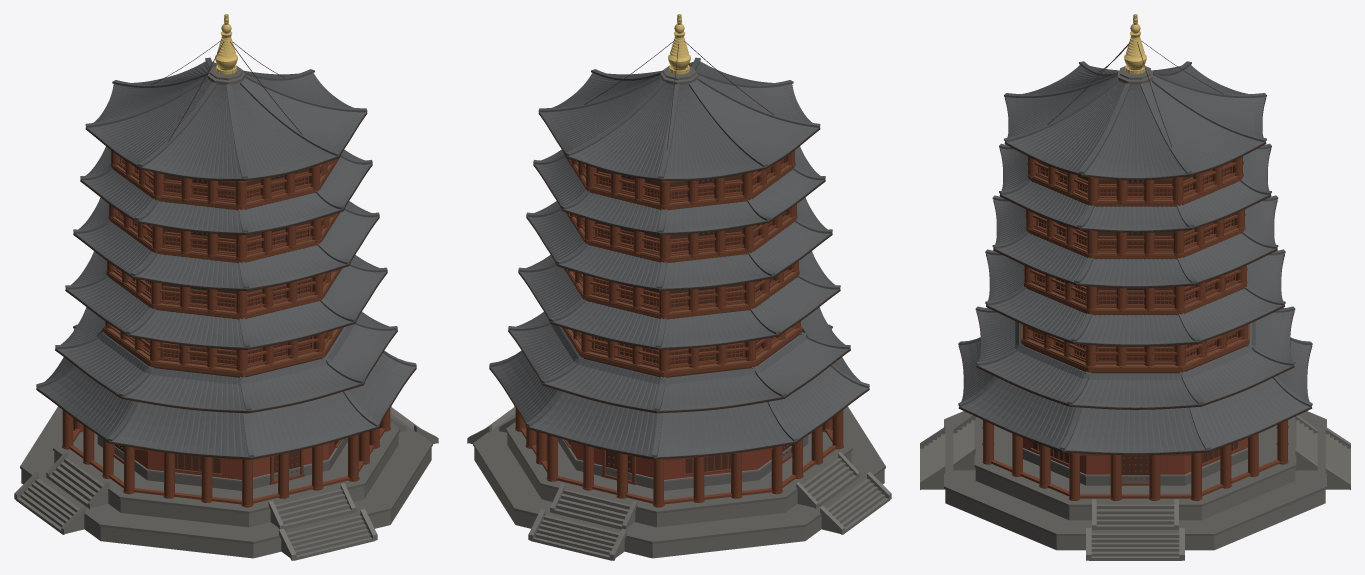
The model's file is liao-04-yingxian-muta.glb.
The picture shows the model from 3 angles, left to right: view 1: azimuth 30°, elevation 25°; view 2: azimuth 150°, elevation 25°; view 3: azimuth 270°, elevation 25°; orthographic projection.
Visible parts, largest first — view 1: 5_攒尖顶, 1_副阶檐, 1_殿身檐, 2_腰檐, 3_腰檐, 02_台基下层_阶条石, 4_腰檐, 04_台基上层_阶条石, 1_副阶檐柱, 05_踏道_下层, 06_踏道_上层, 01_台基下层_石砌 (+33 smaller); view 2: 5_攒尖顶, 1_副阶檐, 1_殿身檐, 2_腰檐, 3_腰檐, 02_台基下层_阶条石, 4_腰檐, 04_台基上层_阶条石, 1_副阶檐柱, 05_踏道_下层, 06_踏道_上层, 01_台基下层_石砌 (+33 smaller); view 3: 5_攒尖顶, 1_副阶檐, 1_殿身檐, 2_腰檐, 3_腰檐, 4_腰檐, 02_台基下层_阶条石, 04_台基上层_阶条石, 05_踏道_下层, 1_副阶檐柱, 06_踏道_上层, 01_台基下层_石砌 (+33 smaller).
Boxes of the visible parts, bbox=[...] form: 5_攒尖顶: bbox=[86, 61, 365, 179]; 1_副阶檐: bbox=[37, 324, 415, 458]; 1_殿身檐: bbox=[56, 307, 396, 411]; 2_腰檐: bbox=[66, 251, 386, 348]; 3_腰檐: bbox=[74, 198, 378, 289]; 02_台基下层_阶条石: bbox=[20, 406, 432, 543]; 4_腰檐: bbox=[81, 146, 371, 233]; 04_台基上层_阶条石: bbox=[53, 422, 399, 513]; 1_副阶檐柱: bbox=[62, 408, 390, 507]; 05_踏道_下层: bbox=[14, 406, 438, 560]; 06_踏道_上层: bbox=[46, 417, 406, 529]; 01_台基下层_石砌: bbox=[21, 448, 431, 558]; 5_攒尖顶: bbox=[540, 61, 819, 179]; 1_副阶檐: bbox=[490, 324, 868, 458]; 1_殿身檐: bbox=[509, 307, 849, 411]; 2_腰檐: bbox=[519, 251, 839, 348]; 3_腰檐: bbox=[527, 198, 831, 289]; 02_台基下层_阶条石: bbox=[473, 406, 885, 543]; 4_腰檐: bbox=[534, 146, 824, 233]; 04_台基上层_阶条石: bbox=[506, 422, 852, 513]; 1_副阶檐柱: bbox=[515, 408, 843, 507]; 05_踏道_下层: bbox=[467, 406, 891, 560]; 06_踏道_上层: bbox=[499, 417, 859, 529]; 01_台基下层_石砌: bbox=[474, 448, 884, 558]; 5_攒尖顶: bbox=[1005, 65, 1265, 178]; 1_副阶檐: bbox=[959, 321, 1311, 453]; 1_殿身檐: bbox=[977, 308, 1293, 408]; 2_腰檐: bbox=[986, 253, 1284, 345]; 3_腰檐: bbox=[994, 199, 1276, 286]; 4_腰檐: bbox=[1000, 148, 1270, 231]; 02_台基下层_阶条石: bbox=[944, 411, 1326, 535]; 04_台基上层_阶条石: bbox=[974, 417, 1296, 506]; 05_踏道_下层: bbox=[920, 427, 1350, 560]; 1_副阶檐柱: bbox=[982, 420, 1288, 500]; 06_踏道_上层: bbox=[953, 415, 1317, 529]; 01_台基下层_石砌: bbox=[945, 489, 1325, 550].
Bounding box in the file's own units: 8.57 × 10 × 8.57.
